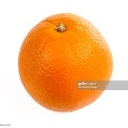orange: (17, 12, 115, 112)
